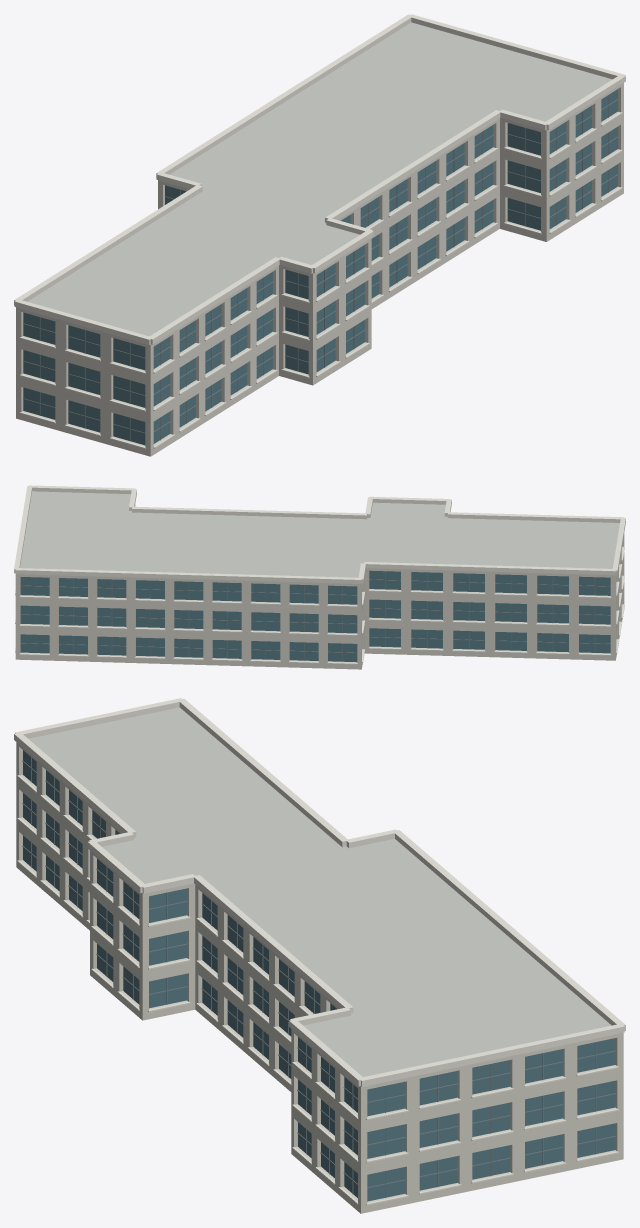
3 views of the same model, one above another, from view 1: azimuth 30°, elevation 25°; view 2: azimuth 150°, elevation 25°; view 3: azimuth 270°, elevation 25° (orthographic). The views are drawn at different scales.
Parts seen in each view (by area): view 1: roof, wall, glass, trim, metal; view 2: roof, wall, glass, trim, metal; view 3: roof, wall, glass, trim, metal.
Part boxes in pixels (x1,y1,x2,y2): roof: (27,22,612,336); wall: (16,83,623,456); glass: (23,89,617,445); trim: (14,14,625,448); metal: (23,95,618,441); roof: (20,491,619,577); wall: (15,505,624,669); glass: (20,570,610,662); trim: (14,485,625,664); metal: (20,571,610,661); roof: (28,707,611,1076); wall: (16,742,623,1213); glass: (23,750,615,1201); trim: (14,698,625,1205); metal: (22,757,615,1197).
Size of the model in its own units: 59.75 by 9.74 by 40.36.
